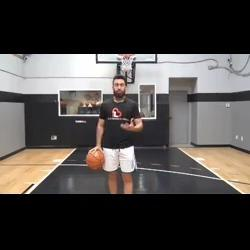BasketBall: (84, 146, 105, 170)
